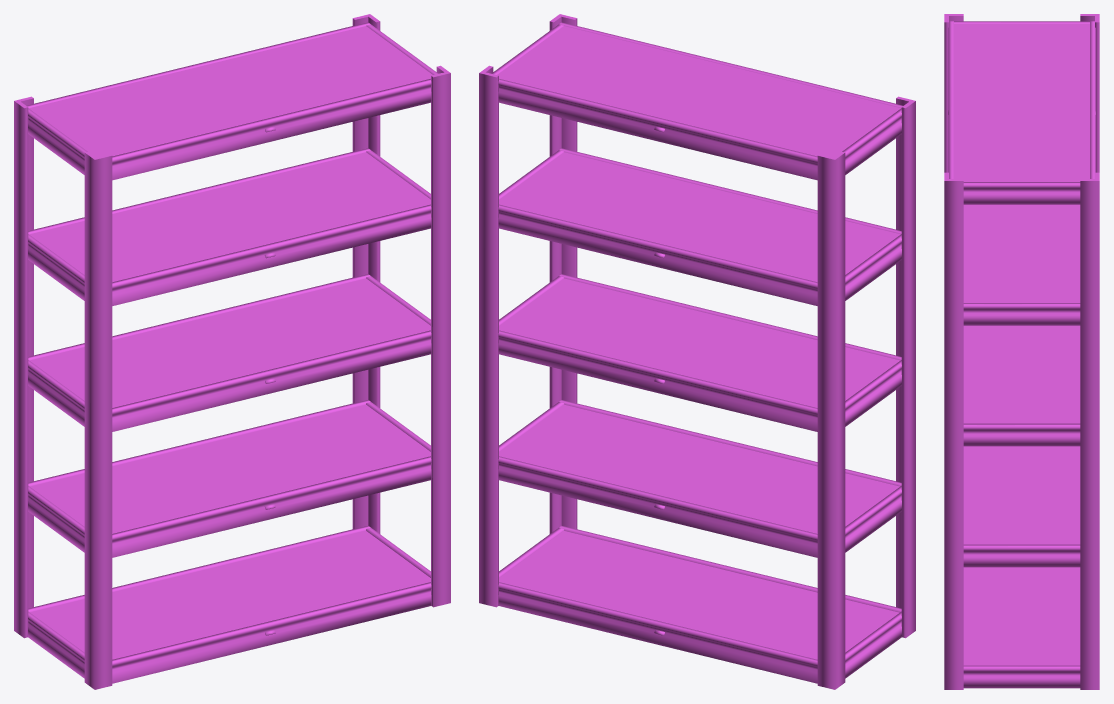
Rendered from WorkStoragerack_Prop.fbx.
The picture shows the model from 3 angles, left to right: view 1: azimuth 30°, elevation 25°; view 2: azimuth 150°, elevation 25°; view 3: azimuth 270°, elevation 25°; orthographic projection. The views are drawn at different scales.
Parts seen in each view (by area): view 1: WorkStorageRack_mesh; view 2: WorkStorageRack_mesh; view 3: WorkStorageRack_mesh.
Boxes of the visible parts, x1,y1,x2,y2 form: WorkStorageRack_mesh: (14, 14, 450, 689); WorkStorageRack_mesh: (479, 14, 915, 689); WorkStorageRack_mesh: (944, 14, 1099, 689).
Bounding box in the file's own units: 971 × 1381 × 381.
